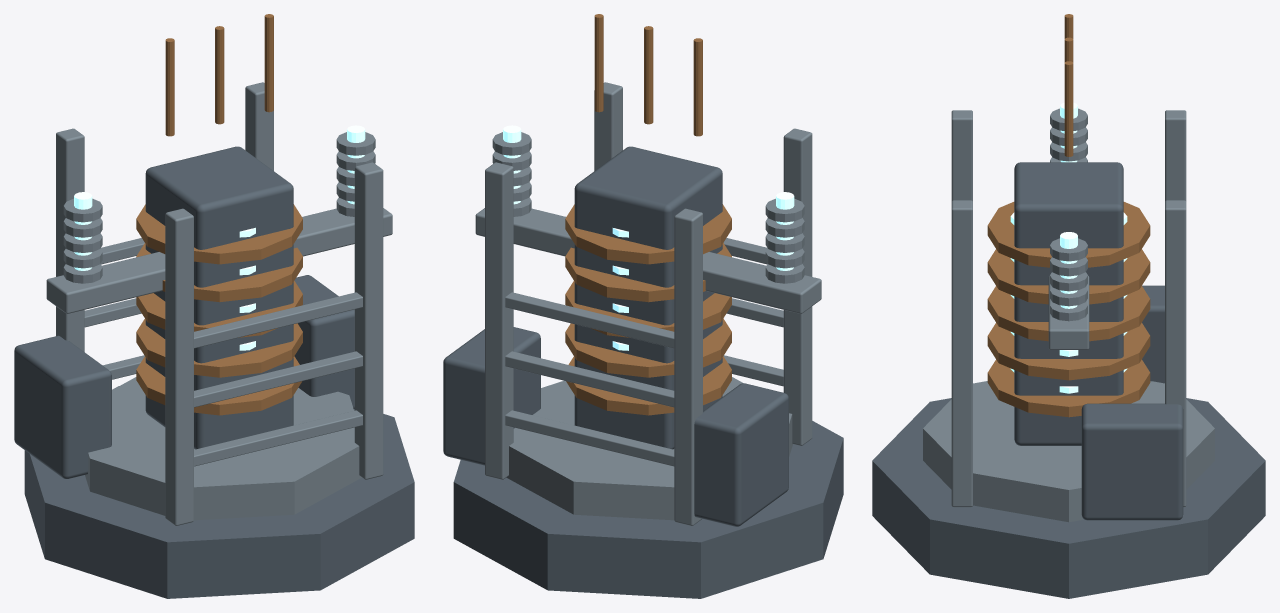
The model's file is relay_t1_d0.glb.
The picture shows the model from 3 angles, left to right: view 1: azimuth 30°, elevation 25°; view 2: azimuth 150°, elevation 25°; view 3: azimuth 270°, elevation 25°; orthographic projection. The views are drawn at different scales.
Parts seen in each view (by area): view 1: BASE_ARMOR_GEOMETRY, BASE_SIGNAL_GEOMETRY; view 2: BASE_ARMOR_GEOMETRY, BASE_SIGNAL_GEOMETRY; view 3: BASE_ARMOR_GEOMETRY, BASE_SIGNAL_GEOMETRY.
Boxes of the visible parts, left/top/right/bottom form: BASE_ARMOR_GEOMETRY: left=14, top=14, right=414, bottom=598; BASE_SIGNAL_GEOMETRY: left=74, top=125, right=365, bottom=350; BASE_ARMOR_GEOMETRY: left=443, top=14, right=843, bottom=598; BASE_SIGNAL_GEOMETRY: left=503, top=125, right=794, bottom=350; BASE_ARMOR_GEOMETRY: left=872, top=14, right=1265, bottom=598; BASE_SIGNAL_GEOMETRY: left=1010, top=102, right=1127, bottom=393.
Size of the model in its own units: 1.55 by 2.07 by 1.55.
